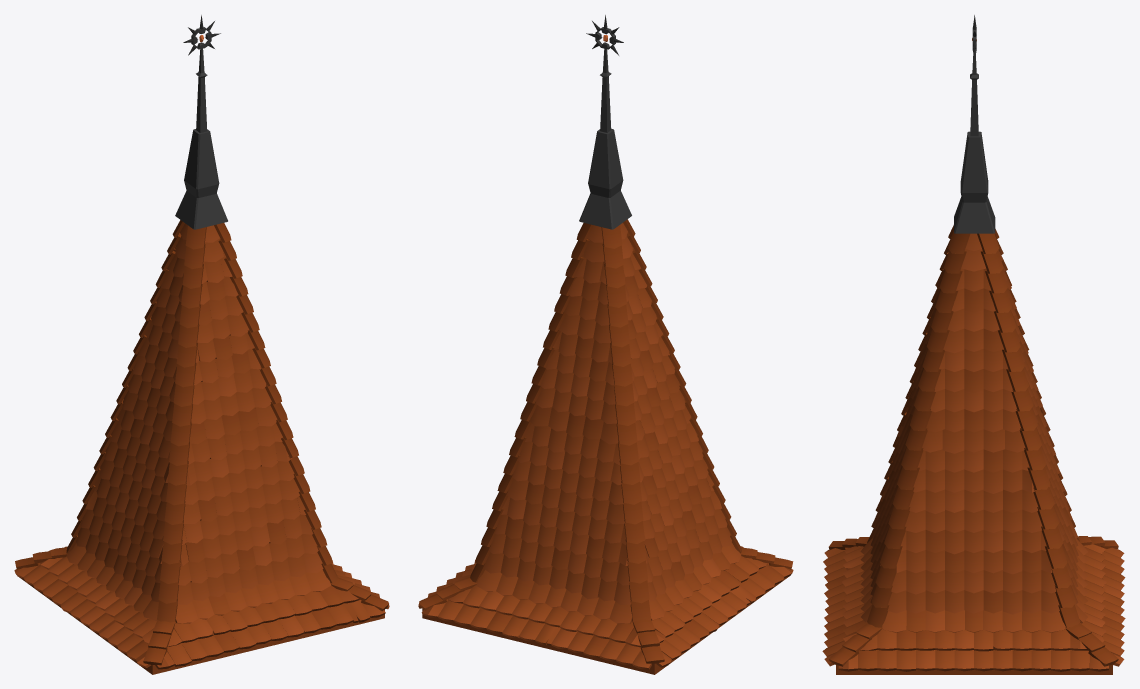
Rendered from ChurchTower_03.glb.
3 renders of one model, left to right at view 1: azimuth 30°, elevation 25°; view 2: azimuth 150°, elevation 25°; view 3: azimuth 270°, elevation 25°, orthographic. The views are drawn at different scales.
Visible parts, largest first — view 1: ChurchTower_03_LOD0; view 2: ChurchTower_03_LOD0; view 3: ChurchTower_03_LOD0.
Part boxes in pixels (left/top/right/bottom): ChurchTower_03_LOD0: left=14, top=15, right=389, bottom=674; ChurchTower_03_LOD0: left=418, top=15, right=793, bottom=674; ChurchTower_03_LOD0: left=822, top=15, right=1125, bottom=674.
Size of what is drawn, in the model's own units: 6.56 by 14.46 by 6.59.
1 material, 1 textured.
